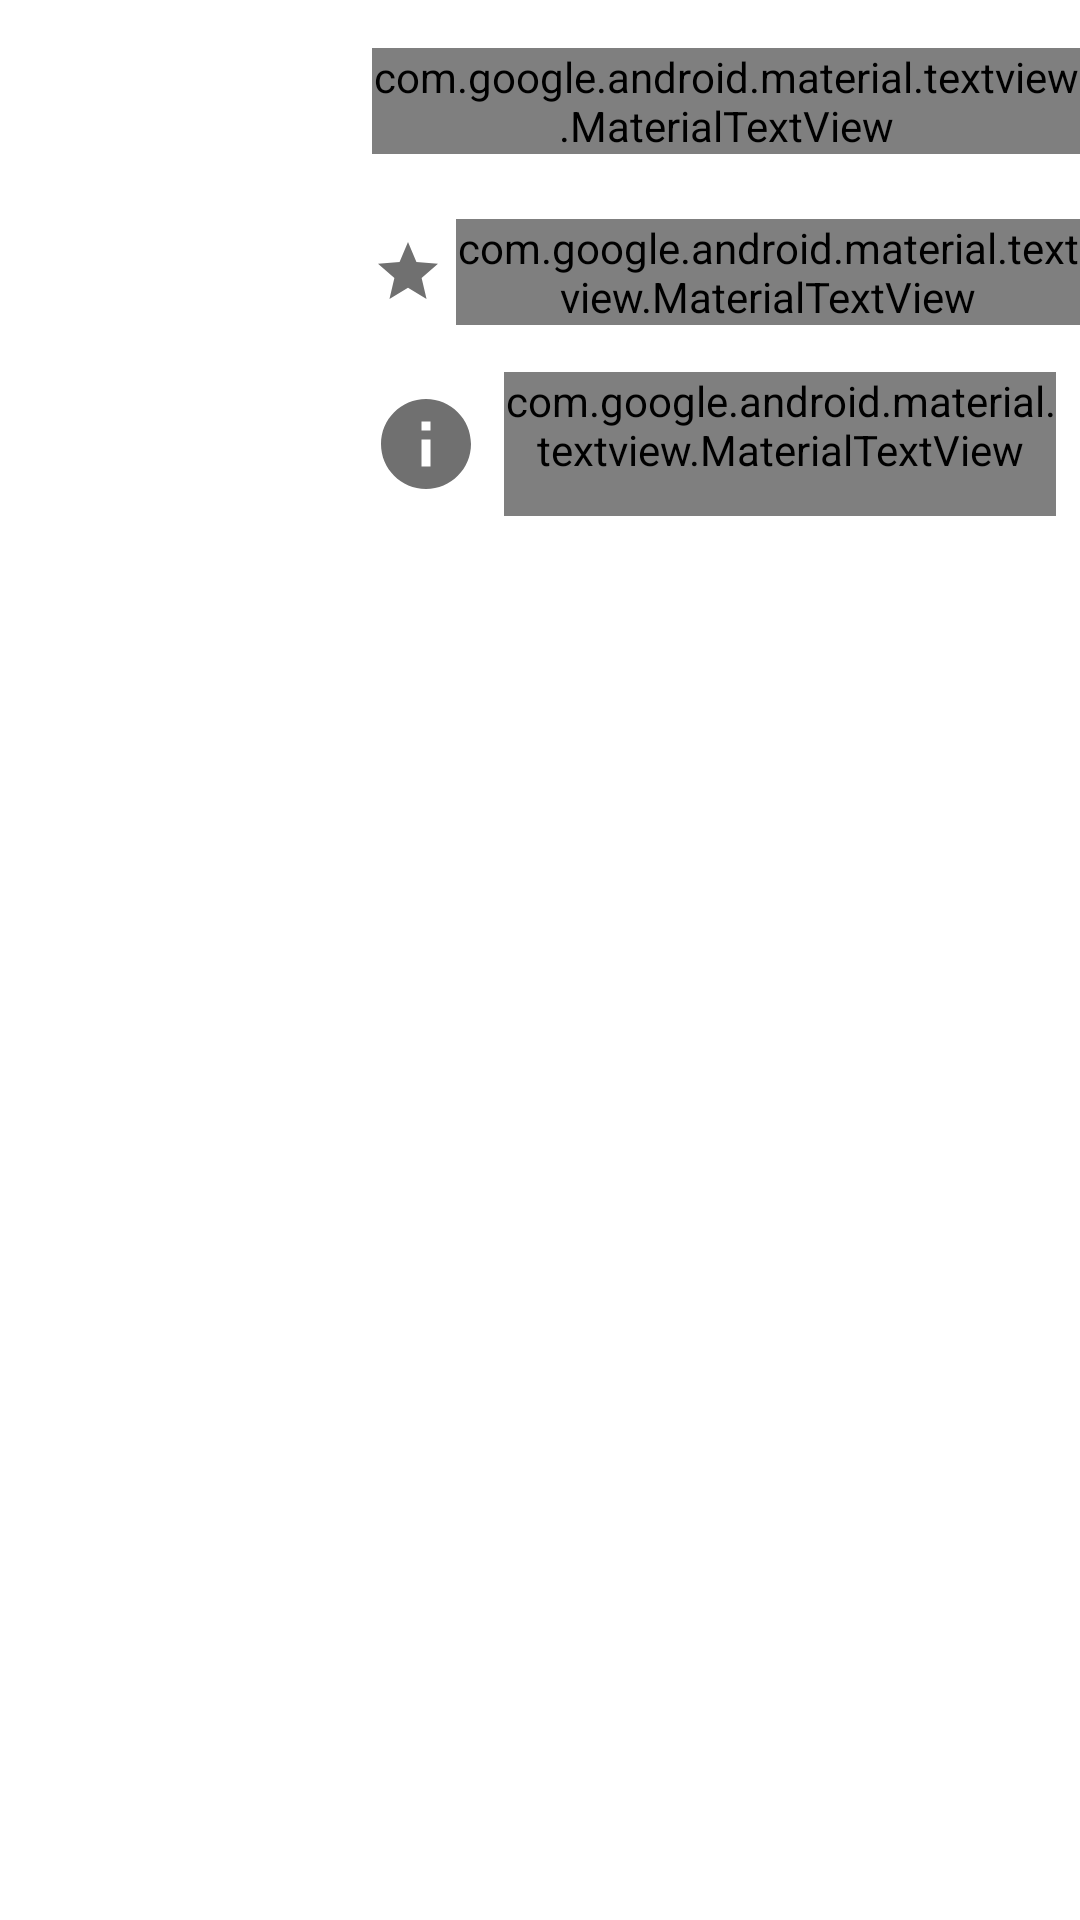

Point at icon controls on the screen. Image size 1080px×1920px, points as (x,y).
info: (426,444)
star: (408,270)
